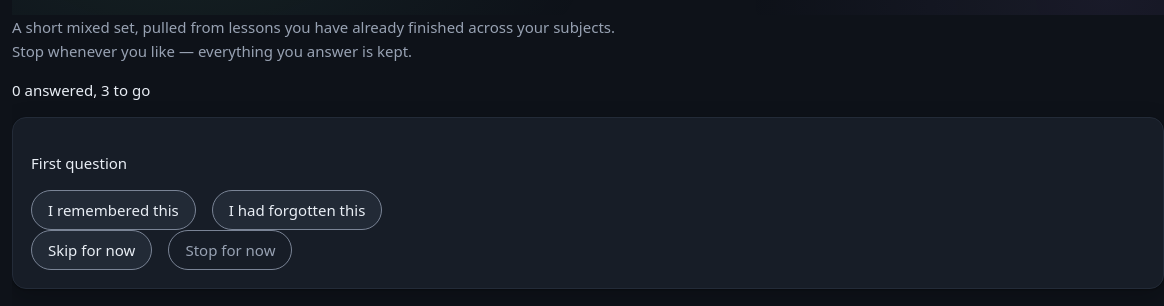
the practice run › skips a question without stalling the run and without recording a miss
Step 1. Click the button with test id "practice-skip" → (92, 250), box [31,230,152,270]
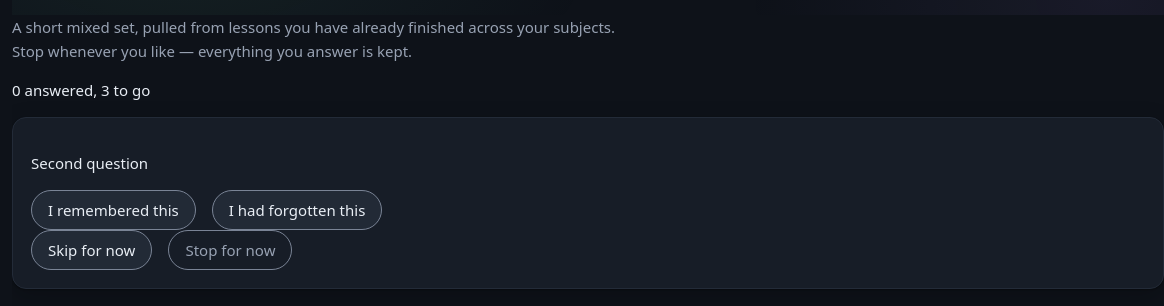
Expected: the text with test id "practice-progress" reads "0 answered, 3 to go", [12,80,150,100]
Result: the element with test id "practice-question" shows "Second question" at [31,153,148,173]
